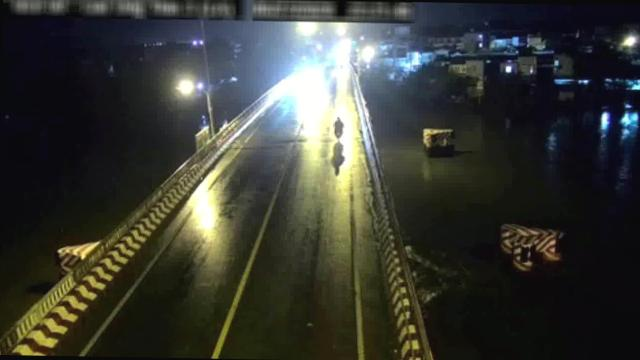Bike: (334, 119, 348, 140)
